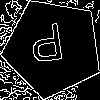P: (28, 22, 67, 72)
